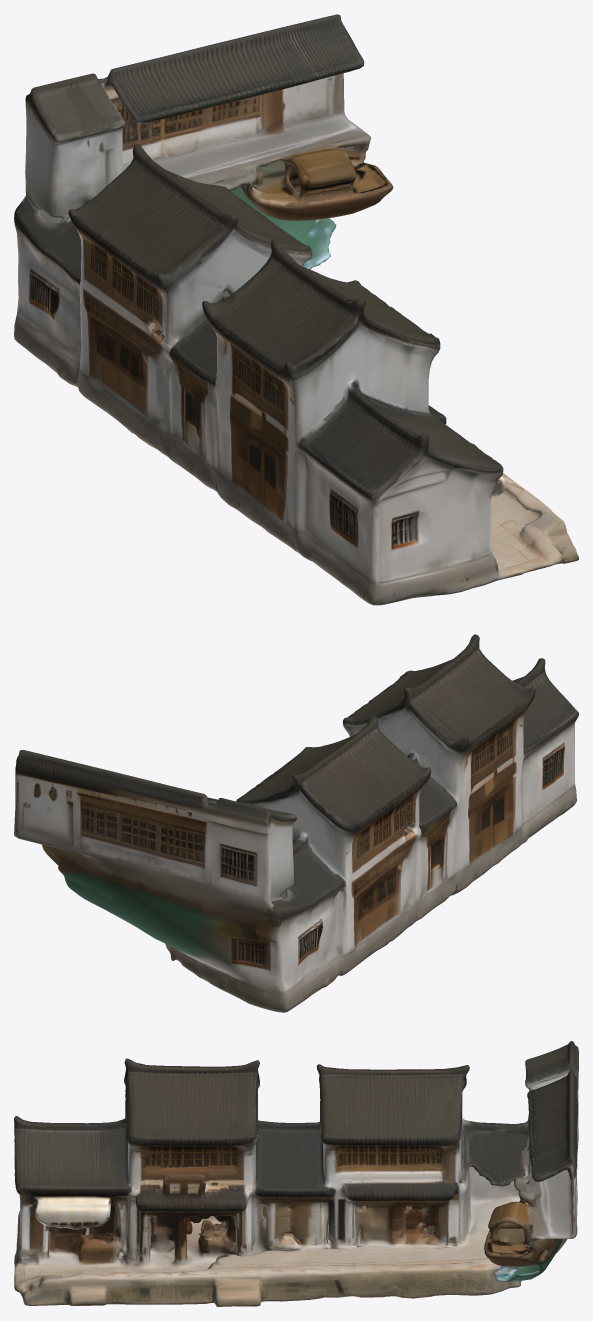
3 renders of one model, top to bottom at view 1: azimuth 30°, elevation 25°; view 2: azimuth 150°, elevation 25°; view 3: azimuth 270°, elevation 25°, orthographic. The views are drawn at different scales.
Visible parts, largest first — view 1: material.001; view 2: material.001; view 3: material.001.
Part boxes in pixels (x1,y1,x2,y2): material.001: (14, 14, 578, 605); material.001: (14, 634, 578, 1012); material.001: (14, 1041, 578, 1306).
Size of the model in its own units: 0.5622 by 0.3912 by 1.03.
Materials: 1 (1 with a texture image).
